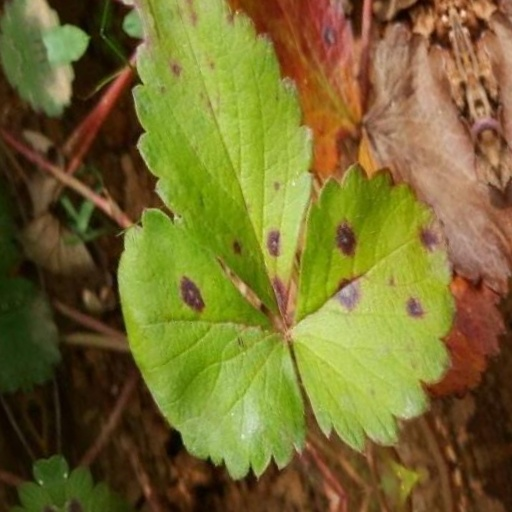Leaf Spot: (171, 177, 347, 511), (266, 31, 446, 320), (109, 38, 267, 332), (299, 288, 412, 511)
